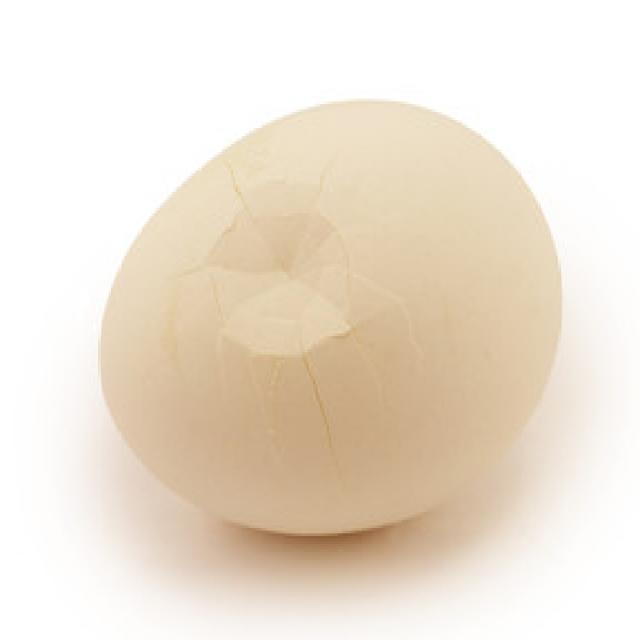biodegradable: (83, 95, 570, 538)
